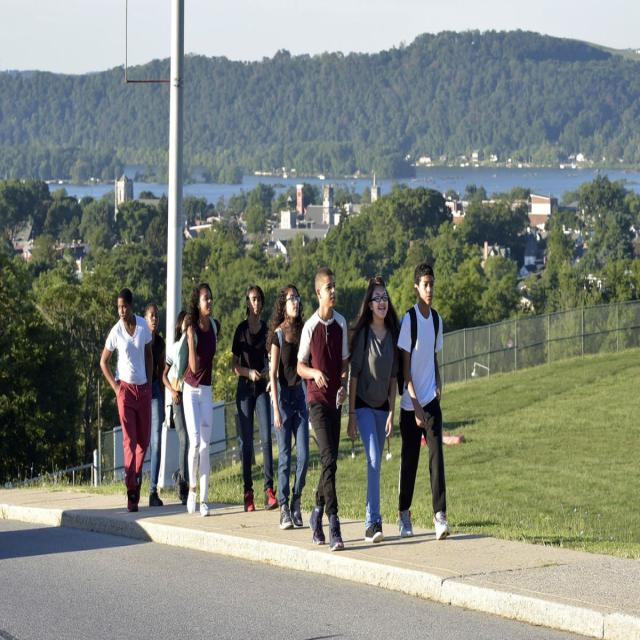body: (393, 261, 452, 544), (295, 264, 352, 555), (345, 274, 402, 546), (97, 286, 155, 515), (171, 280, 222, 520), (228, 281, 280, 515), (263, 282, 308, 531), (138, 302, 168, 510), (160, 308, 191, 508)
